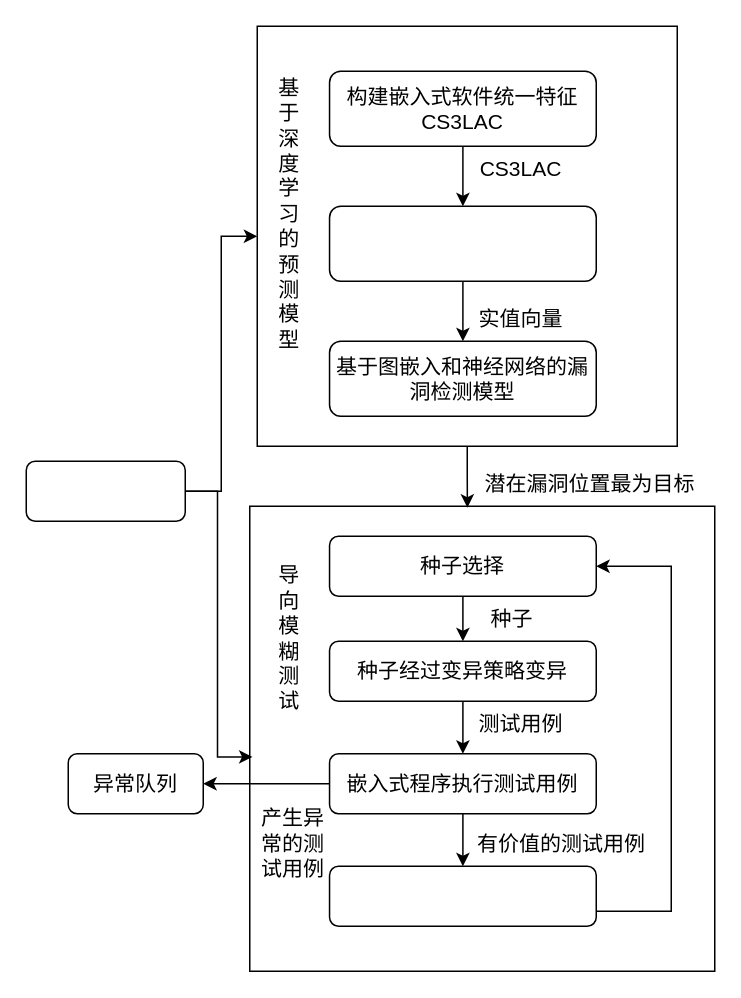
The diagram is 741 pixels wide and 998 high, and some of its shapes have lost their labels. The shapes that lost their labels are listed below. From the top down, each one's centre as x and y in pixels, then its label:
At (462,243): "CS3LAC特征表示的图嵌入模型".
At (105,490): "嵌入式程序".
At (462,895): "能量调度策略计算种子能量".
